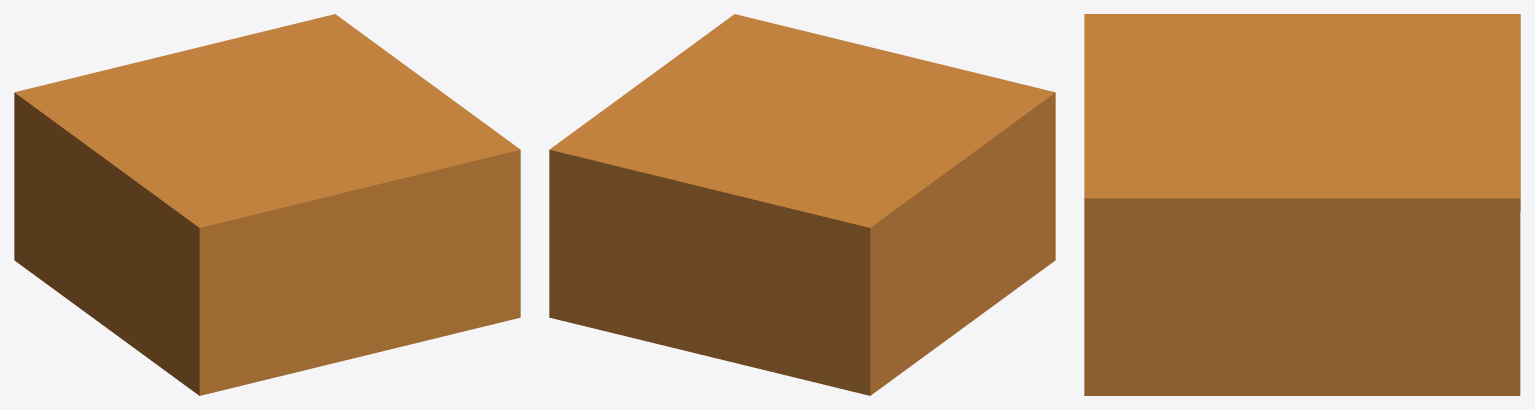
3 views of the same model, side by side, from view 1: azimuth 30°, elevation 25°; view 2: azimuth 150°, elevation 25°; view 3: azimuth 270°, elevation 25° (orthographic). The views are drawn at different scales.
Parts seen in each view (by area): view 1: CORNER-B-5-p1; view 2: CORNER-B-5-p1; view 3: CORNER-B-5-p1.
Part boxes in pixels (x1=…): CORNER-B-5-p1: x1=14, y1=14, x2=520, y2=395; CORNER-B-5-p1: x1=549, y1=14, x2=1055, y2=395; CORNER-B-5-p1: x1=1084, y1=14, x2=1520, y2=395.
Size of the model in its own units: 0.09 by 0.045 by 0.09.
